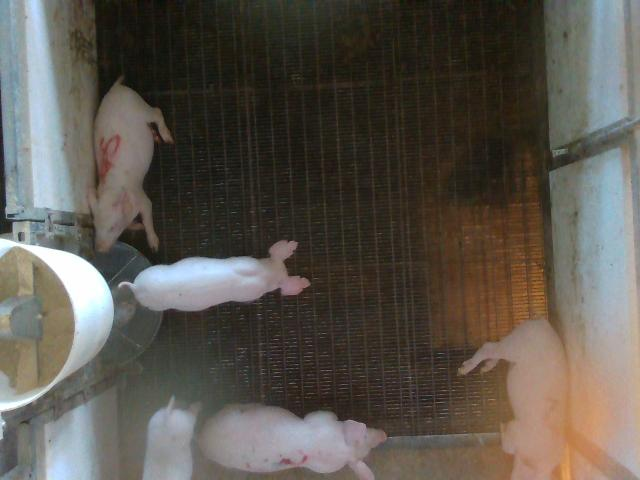pig-2: (458, 319, 566, 478)
pig-3: (199, 404, 386, 479)
pig-5: (88, 76, 174, 251)
